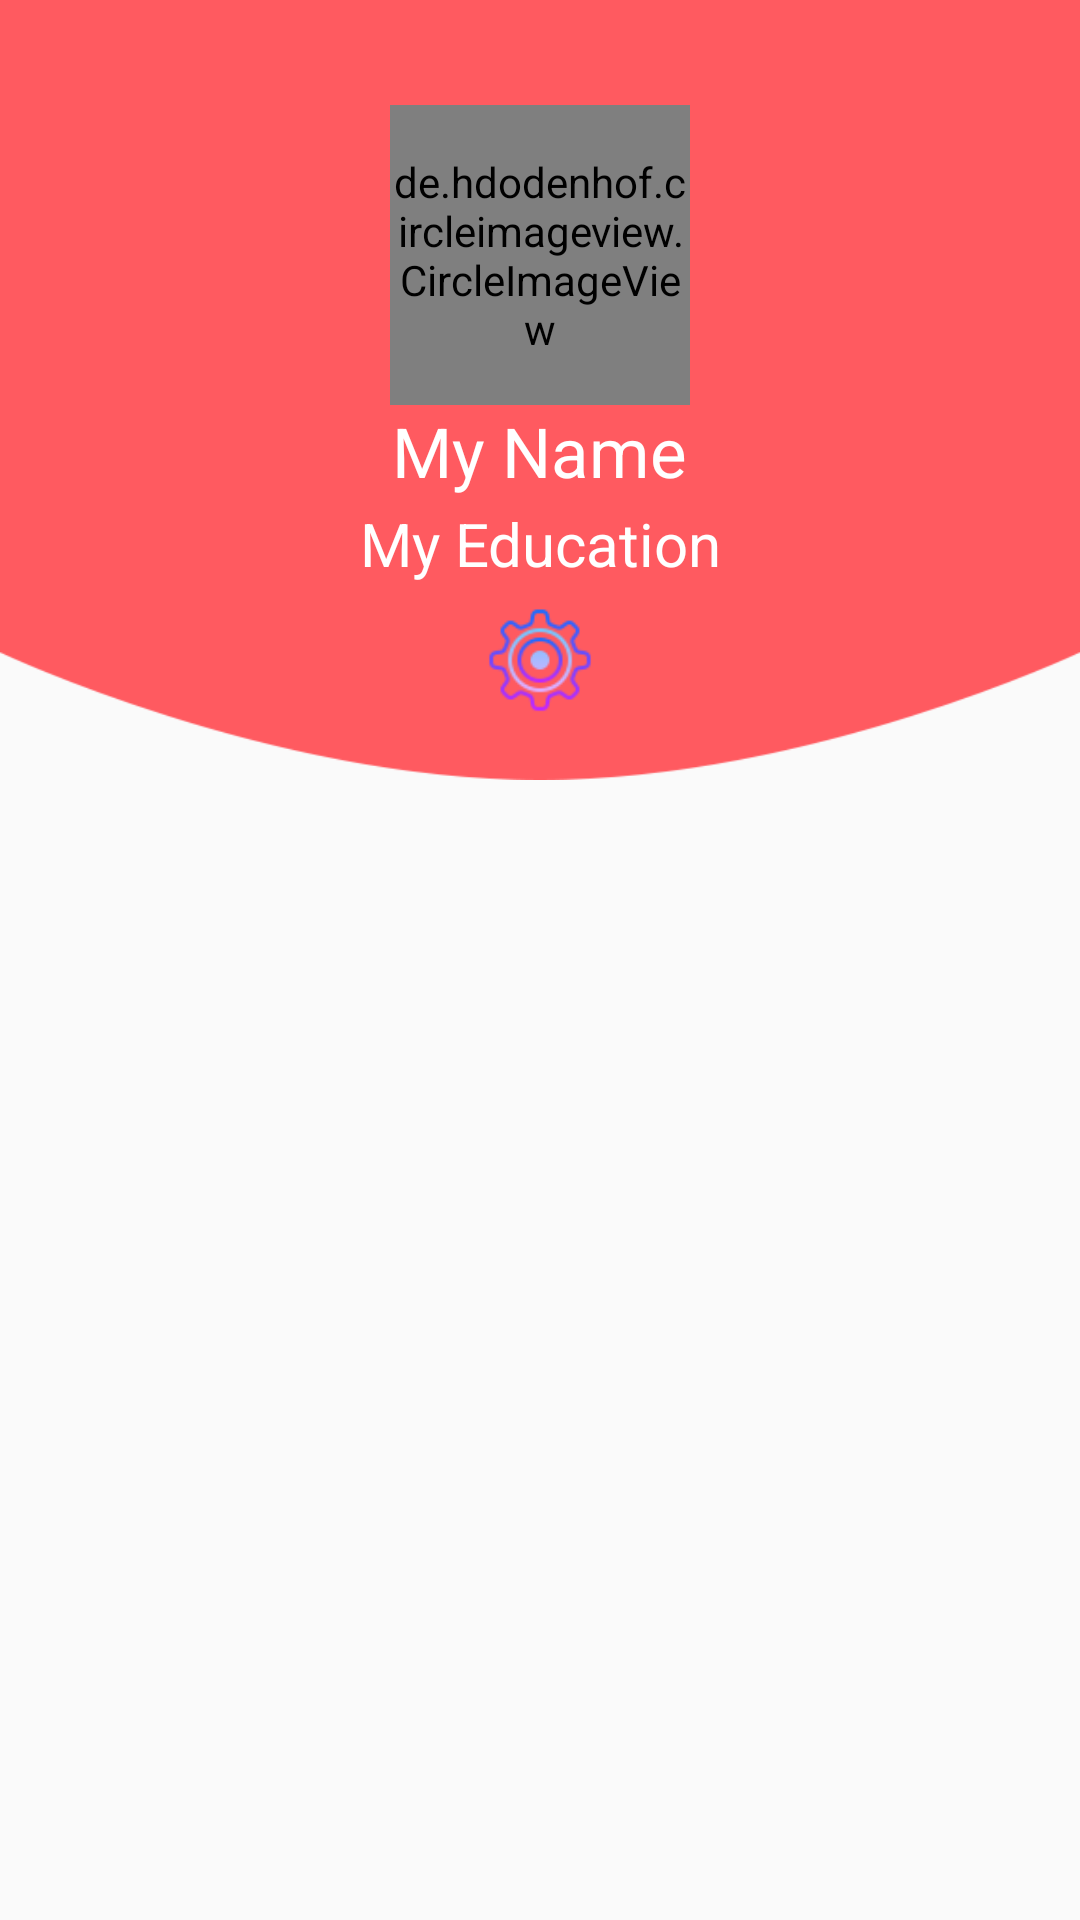

Locate icon controls on the screen. Image size 1080w x 1920h, boxes as (x1, y1, x2, y2).
setting: (489, 609, 591, 711)
